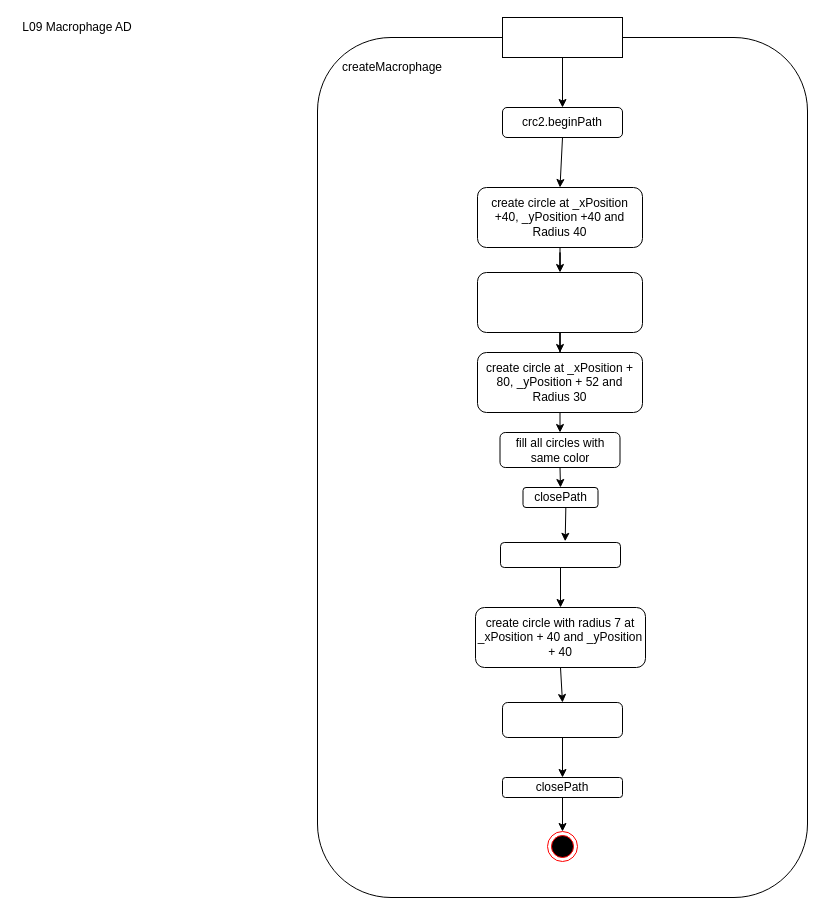
Some shapes in this 825 by 915 pixel diagram are drawn without their labels. Each missing label, with the centre of its shape:
"_xPosition: number _yPosition: number" belongs at point 562,37.
"beginPath" belongs at point 560,555.
"create circle at _xPosition + 18, _yPosition +12 and Radius 35" belongs at point 559,302.
"fill the circle with dark grey color" belongs at point 562,720.
